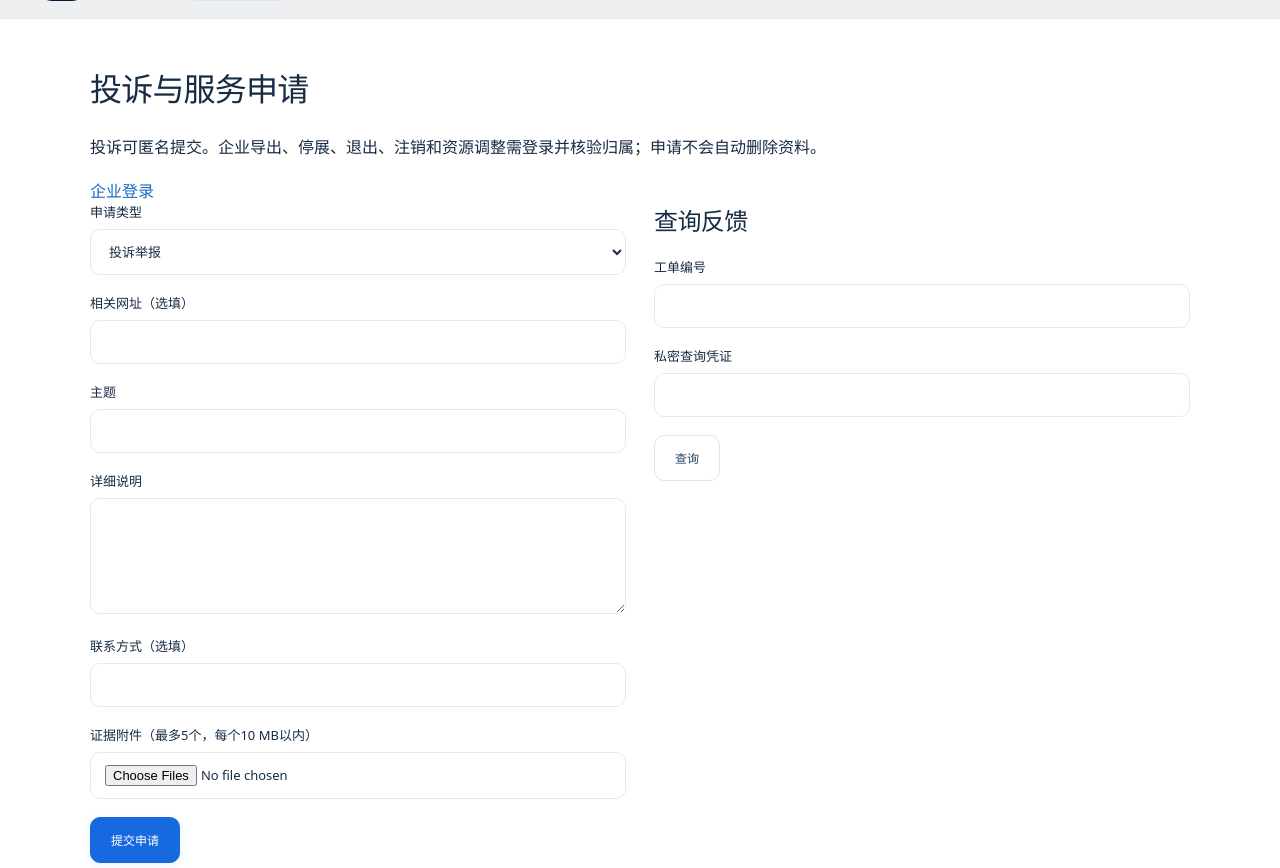
Test: submits anonymous complaints with a private credential and reuses the request identity
(page scrolled)
In the field labelled "主题": [358, 431] box [90,409,626,453], type "企业图片投诉"
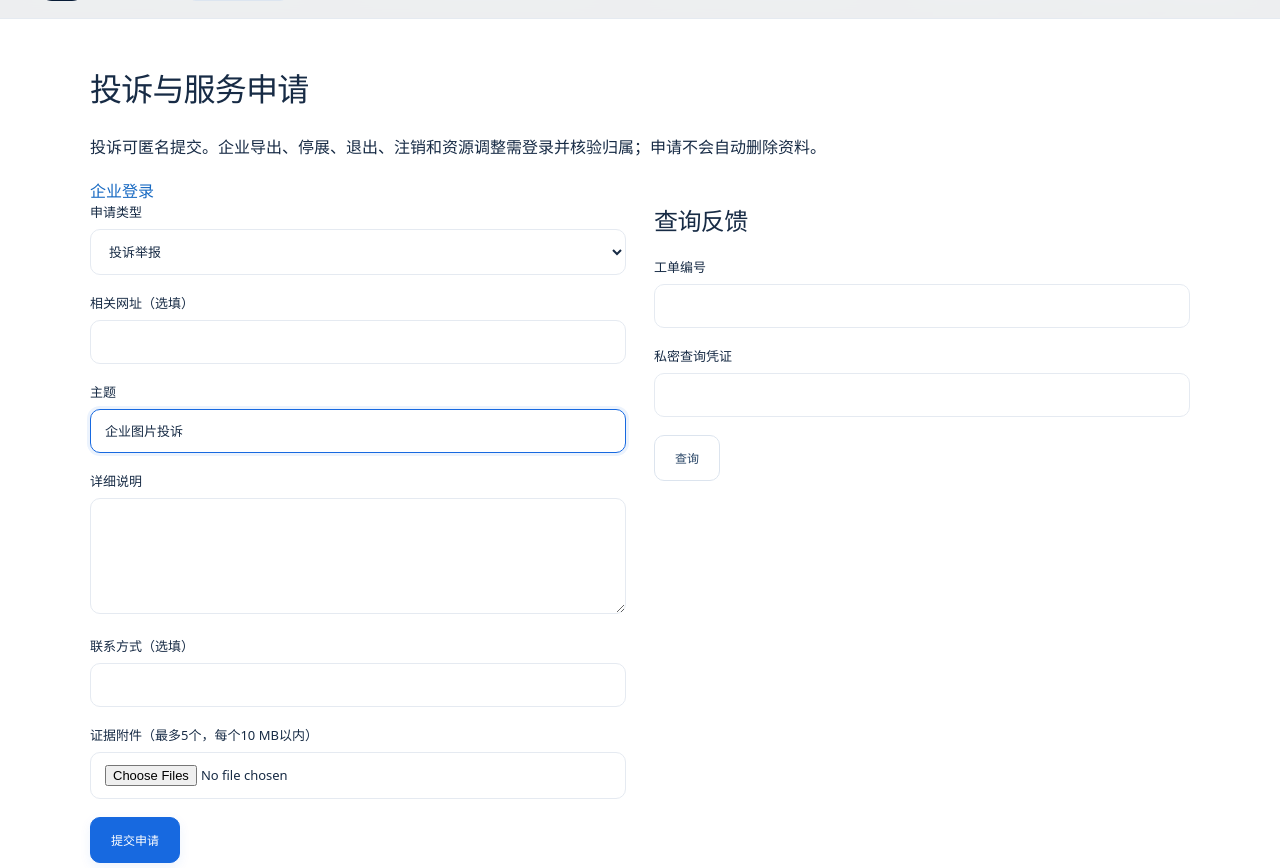
In the text box labelled "详细说明": [358, 556] box [90,498,626,614], type "请核对图片权利。"
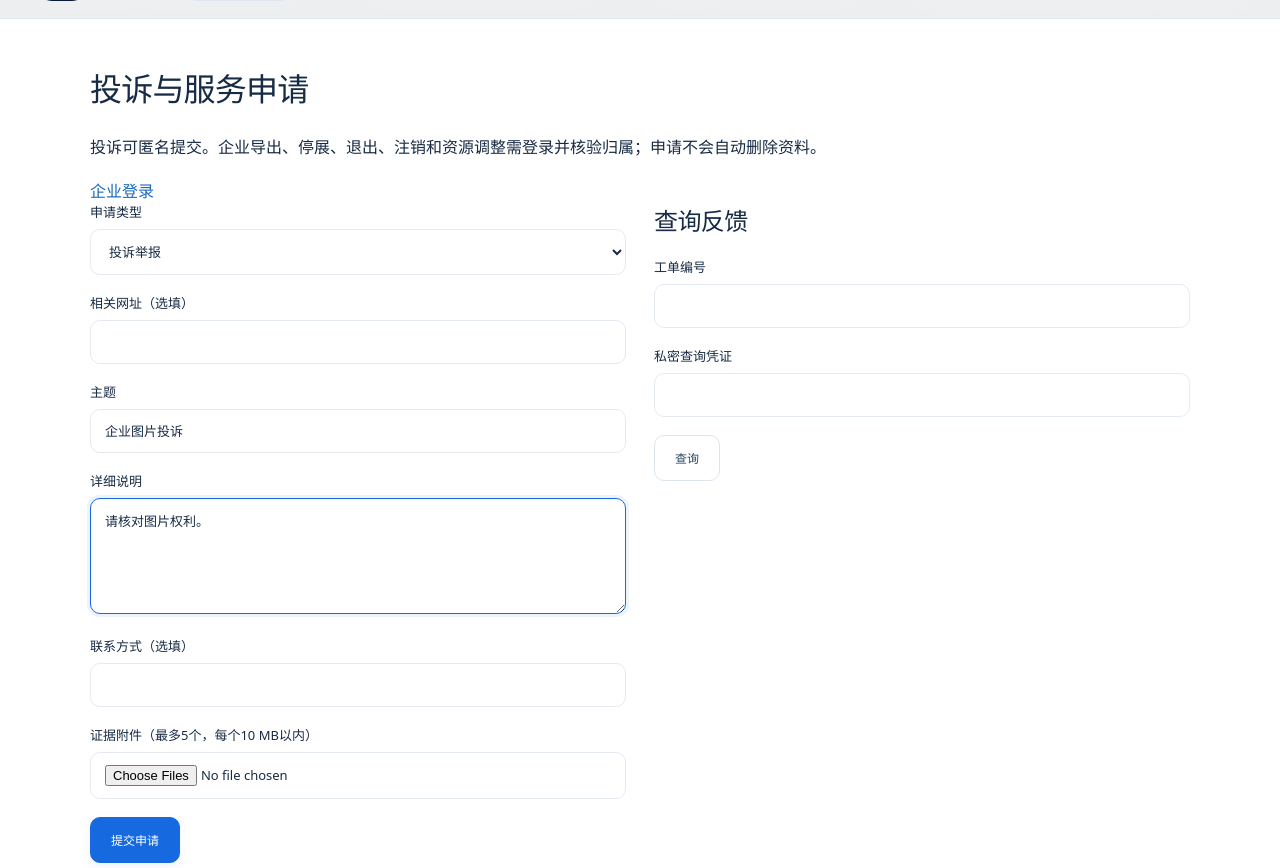
Click the button "提交申请": [135, 840] box [90,817,180,863]
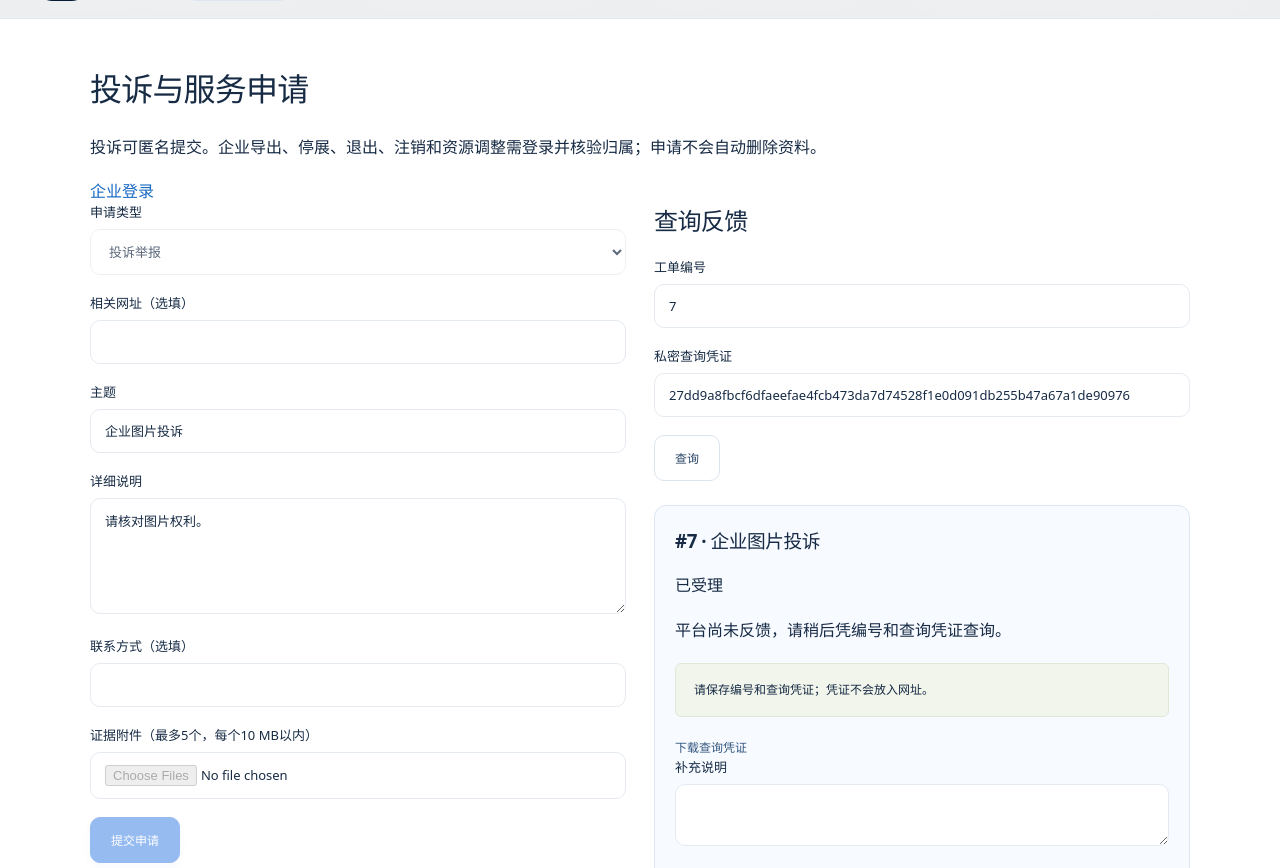
Now the heading "#7 · 企业图片投诉" is shown, box [675,528,820,553]
